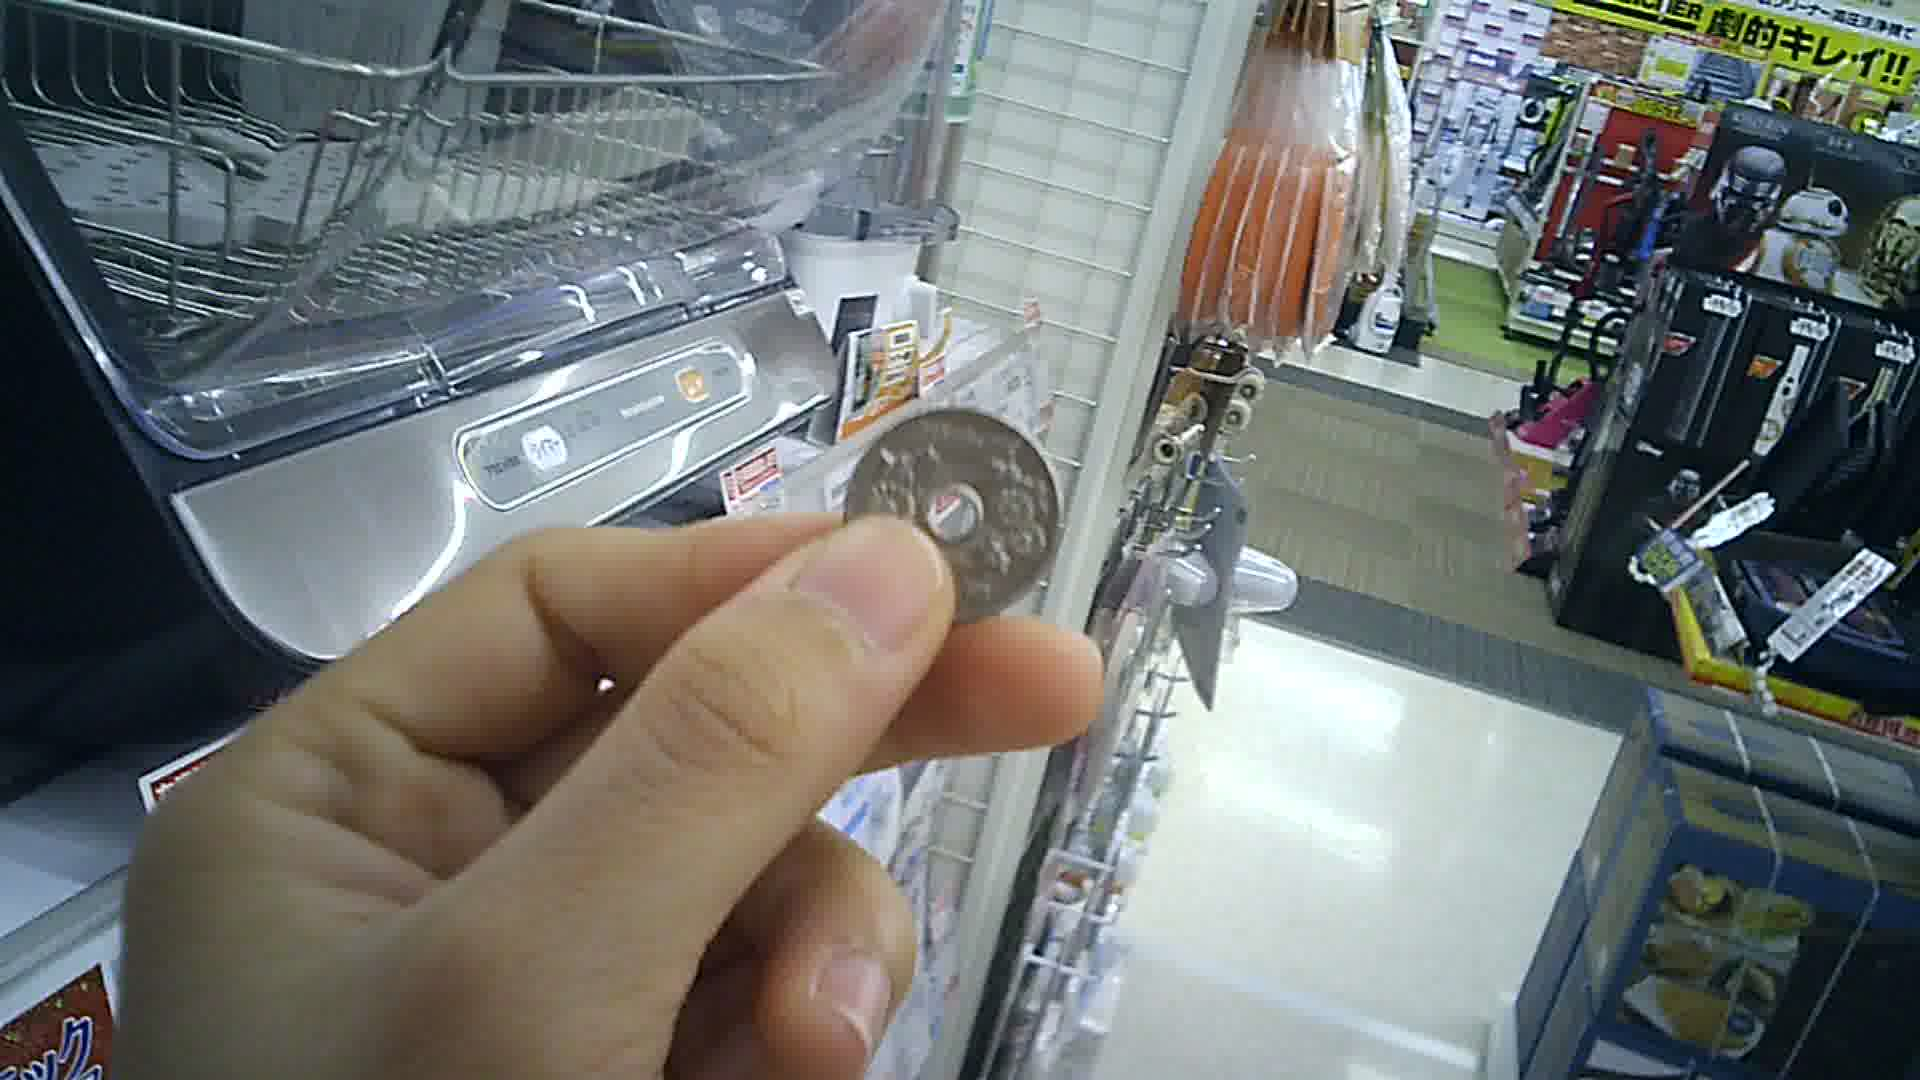50 Yen: (833, 396, 1059, 632)
